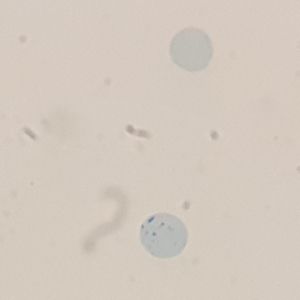aggregate reticulocyte: (137, 211, 190, 260)
erythrocyte: (167, 26, 215, 74)
